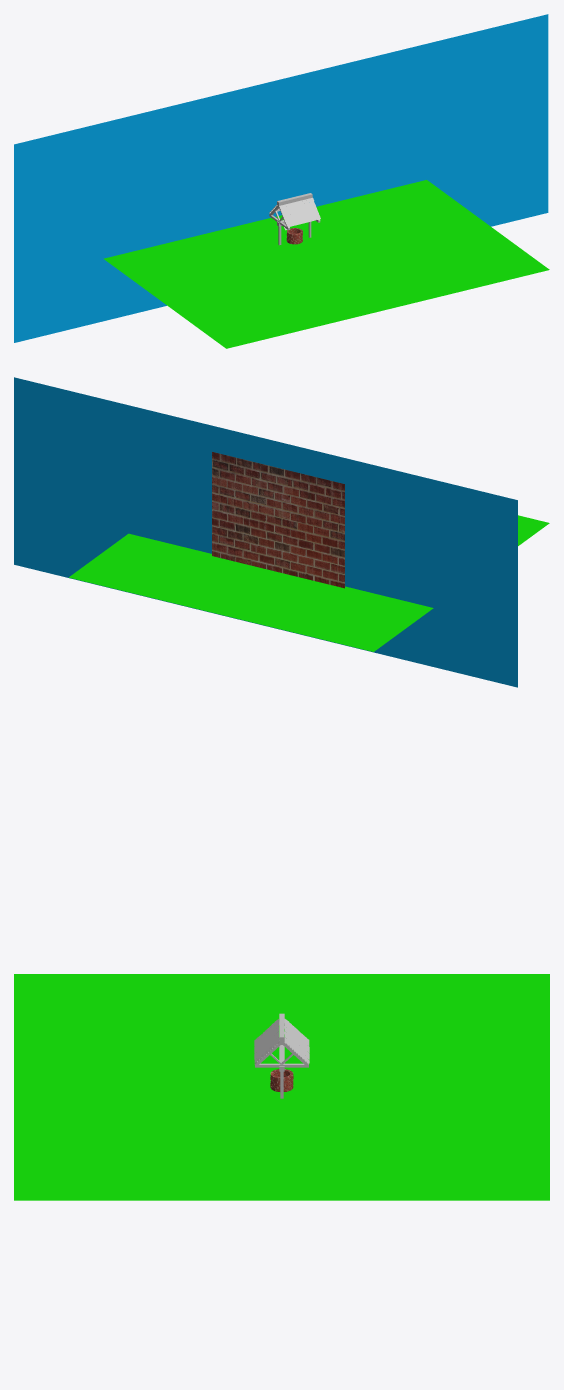
The model's file is well_GROUND_Textured.fbx.
The picture shows the model from 3 angles, top to bottom: view 1: azimuth 30°, elevation 25°; view 2: azimuth 150°, elevation 25°; view 3: azimuth 270°, elevation 25°; orthographic projection. The views are drawn at different scales.
Visible parts, largest first — view 1: Plane.001, Plane, Plane.062, Wooden Support; view 2: Plane.001, Plane, Plane.203; view 3: Plane, Plane.062, Wooden Support.
Part boxes in pixels (x1,y1,x2,y2): Plane.001: [14, 14, 548, 342]; Plane: [103, 180, 549, 348]; Plane.062: [269, 197, 320, 230]; Wooden Support: [269, 193, 320, 245]; Plane.001: [14, 377, 517, 687]; Plane: [69, 515, 549, 651]; Plane.203: [212, 452, 344, 588]; Plane: [14, 974, 549, 1200]; Plane.062: [254, 1019, 309, 1063]; Wooden Support: [254, 1013, 308, 1098].
Size of the model in its own units: 58.34 by 20.73 by 35.33.
